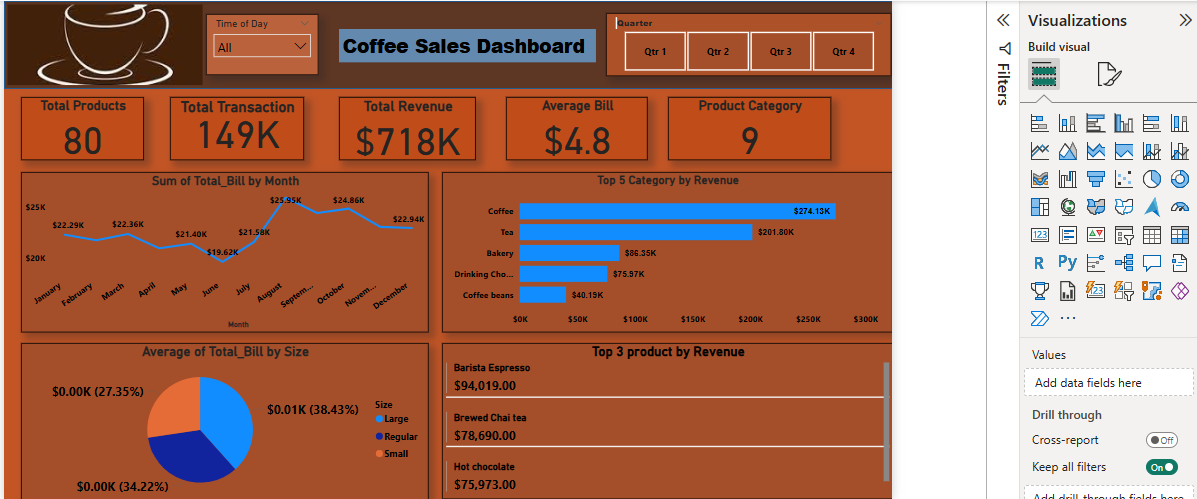

The page's visual inventory and layout, read from the dashboard file:
{"tool":"powerbi","page":{"name":"Dashboard","canvas":[1280,720],"ordinal":0},"visuals":[{"type":"shape","box":[0,0,1280.2,126.7],"z":0},{"type":"textbox","box":[481.9,39.7,370,48.2],"z":1000},{"type":"image","box":[0,0,290.6,126],"z":2000},{"type":"card","title":"Total Products","fields":{"Values":["Count(Coffee Shop Sales xlsx - Transactions (2).product_id)"]},"box":[24.5,138.2,177.1,90.7],"z":3000},{"type":"card","title":"Total Transaction","fields":{"Values":["CountNonNull(Coffee Shop Sales xlsx - Transactions (2).transaction_qty)"]},"box":[239,138.2,193,90.7],"z":4000},{"type":"card","title":"Total Revenue","fields":{"Values":["Sum(Coffee Shop Sales xlsx - Transactions (2).Total_Bill)"]},"box":[482.4,138.2,197.3,90.7],"z":5000},{"type":"card","title":"Average Bill","fields":{"Values":["Avg(Coffee Shop Sales xlsx - Transactions (2).Total_Bill)"]},"box":[722.9,138.2,204.5,90.7],"z":6000},{"type":"card","title":"Product Category","fields":{"Values":["Count(Coffee Shop Sales xlsx - Transactions (2).product_category)"]},"box":[956.2,138.2,234.7,90.7],"z":7000},{"type":"lineChart","fields":{"Y":["Sum(Coffee Shop Sales xlsx - Transactions (2).Total_Bill)"],"Category":["Coffee Shop Sales xlsx - Transactions (2).transaction_date.Variation.Date Hierarchy.Month"]},"box":[24.1,246.6,586.8,231.1],"z":8000},{"type":"pieChart","fields":{"Y":["Avg(Coffee Shop Sales xlsx - Transactions (2).Total_Bill)"],"Category":["Coffee Shop Sales xlsx - Transactions (2).Size"]},"box":[24.1,491.9,586.8,228.2],"z":9000},{"type":"barChart","title":"Top 5 Category by Revenue","fields":{"Category":["Coffee Shop Sales xlsx - Transactions (2).product_category"],"Y":["Sum(Coffee Shop Sales xlsx - Transactions (2).Total_Bill)"]},"box":[630.8,246.6,649.2,231.1],"z":10000},{"type":"multiRowCard","title":"Top 3 product by Revenue","fields":{"Values":["Coffee Shop Sales xlsx - Transactions (2).product_type","Sum(Coffee Shop Sales xlsx - Transactions (2).Total_Bill)"]},"box":[630.9,492.7,650.2,224.9],"z":11000},{"type":"slicer","fields":{"Values":["Coffee Shop Sales xlsx - Transactions (2).transaction_date.Variation.Date Hierarchy.Quarter"]},"box":[867.5,17,411.1,90.7],"z":12000},{"type":"slicer","fields":{"Values":["Coffee Shop Sales xlsx - Transactions (2).Time of Day"]},"box":[290.6,18.4,161.6,87.9],"z":13000}]}

Visuals, with their boxes on the page's 1280x720 design canvas (x1, y1, x2, y2). These are canvas units, not pixel positions in the 1197x499 screenshot, which may show the page scaled, cropped or inside an application window:
shape: {"left": 0, "top": 0, "right": 1280, "bottom": 127}
textbox: {"left": 482, "top": 40, "right": 852, "bottom": 88}
image: {"left": 0, "top": 0, "right": 291, "bottom": 126}
"Total Products" card: {"left": 24, "top": 138, "right": 202, "bottom": 229}
"Total Transaction" card: {"left": 239, "top": 138, "right": 432, "bottom": 229}
"Total Revenue" card: {"left": 482, "top": 138, "right": 680, "bottom": 229}
"Average Bill" card: {"left": 723, "top": 138, "right": 927, "bottom": 229}
"Product Category" card: {"left": 956, "top": 138, "right": 1191, "bottom": 229}
lineChart - Sum(Coffee Shop Sales xlsx - Transactions (2).Total_Bill) x Coffee Shop Sales xlsx - Transactions (2).transaction_date.Variation.Date Hierarchy.Month: {"left": 24, "top": 247, "right": 611, "bottom": 478}
pieChart - Avg(Coffee Shop Sales xlsx - Transactions (2).Total_Bill) x Coffee Shop Sales xlsx - Transactions (2).Size: {"left": 24, "top": 492, "right": 611, "bottom": 720}
"Top 5 Category by Revenue" barChart: {"left": 631, "top": 247, "right": 1280, "bottom": 478}
"Top 3 product by Revenue" multiRowCard: {"left": 631, "top": 493, "right": 1281, "bottom": 718}
slicer - Coffee Shop Sales xlsx - Transactions (2).transaction_date.Variation.Date Hierarchy.Quarter: {"left": 868, "top": 17, "right": 1279, "bottom": 108}
slicer - Coffee Shop Sales xlsx - Transactions (2).Time of Day: {"left": 291, "top": 18, "right": 452, "bottom": 106}
